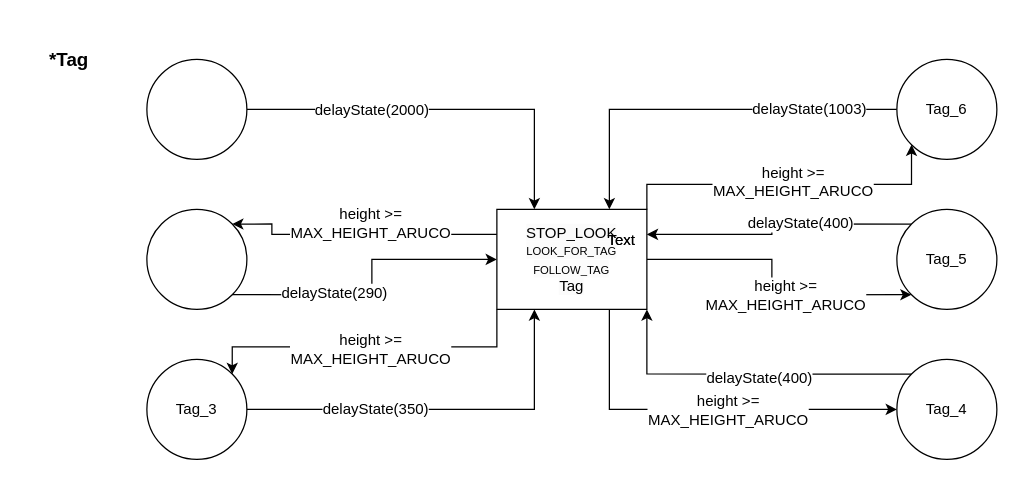
Image size: 1019x481. Some labels were removed from this diagram. Each missing label, with the centre of its shape:
Tag_1: the point at 196,108
Tag_2: the point at 196,258
